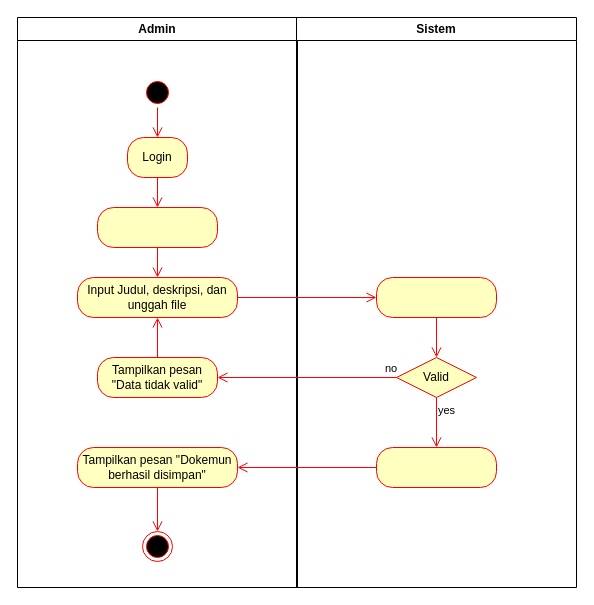
Image size: 594x605. Some labels were removed from this diagram. Here are the shapes that lost their labels. From the top down, the box of each, then its label:
(96, 206, 218, 248): Buka menu dokumen
(376, 276, 496, 318): Cek data Dokumen
(376, 446, 496, 488): Simpan ke Database
